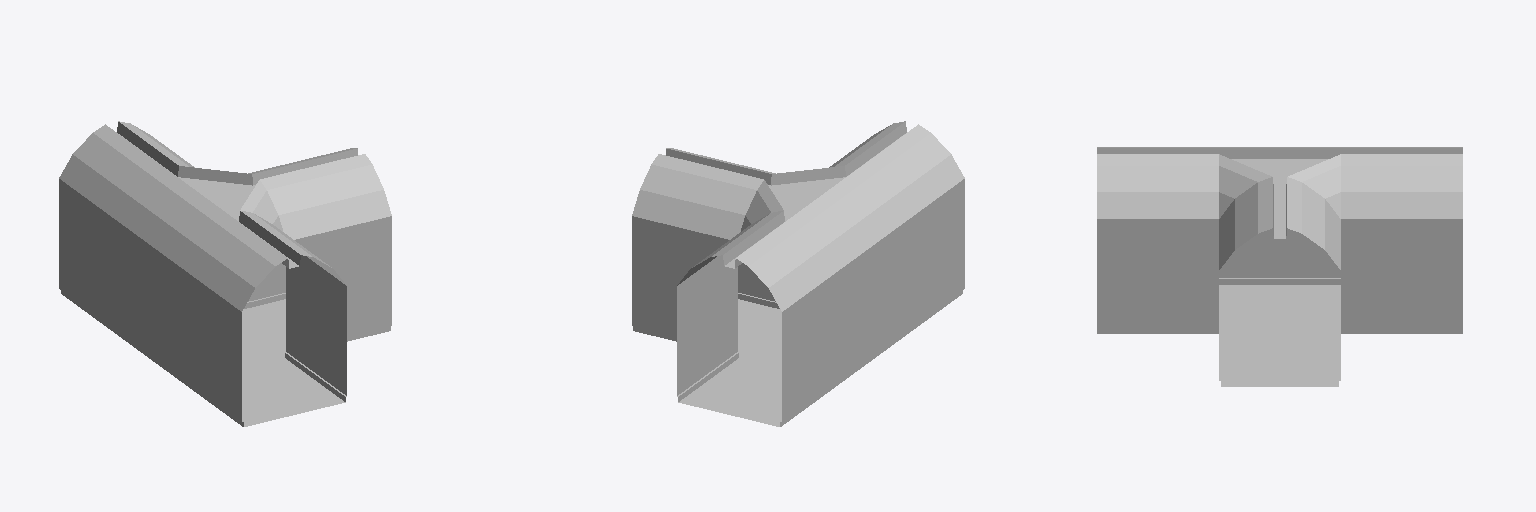
Rendered from 3way.obj.
3 views of the same model, side by side, from view 1: azimuth 30°, elevation 25°; view 2: azimuth 150°, elevation 25°; view 3: azimuth 270°, elevation 25° (orthographic).
Visible parts, largest first — view 1: 3way; view 2: 3way; view 3: 3way.
Part boxes in pixels (x1,y1,x2,y2): 3way: (59,121,391,426); 3way: (632,121,964,426); 3way: (1097,147,1462,386).
Size of the model in its own units: 120 by 85.98 by 180.